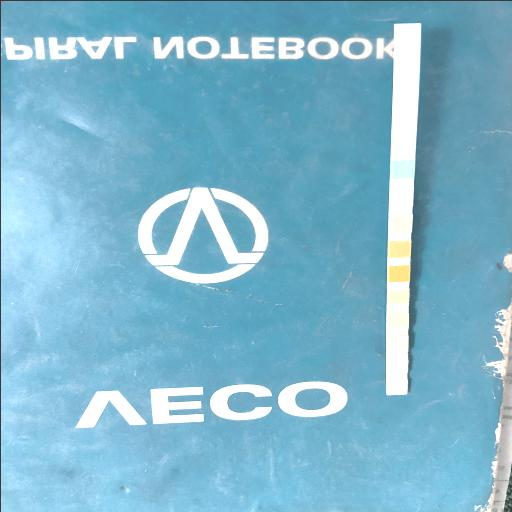Bilirubin: (389, 188, 412, 204)
Blood: (388, 266, 408, 280)
Glucose: (390, 160, 413, 177)
Ketone: (388, 214, 410, 230)
Leukocytes: (386, 379, 406, 393)
Nitrite: (386, 357, 406, 371)
Protein: (387, 313, 407, 327)
SpGravity: (388, 241, 410, 256)
Urobilinogen: (386, 335, 406, 349)
pH: (387, 290, 407, 304)
strip: (385, 22, 420, 394)
